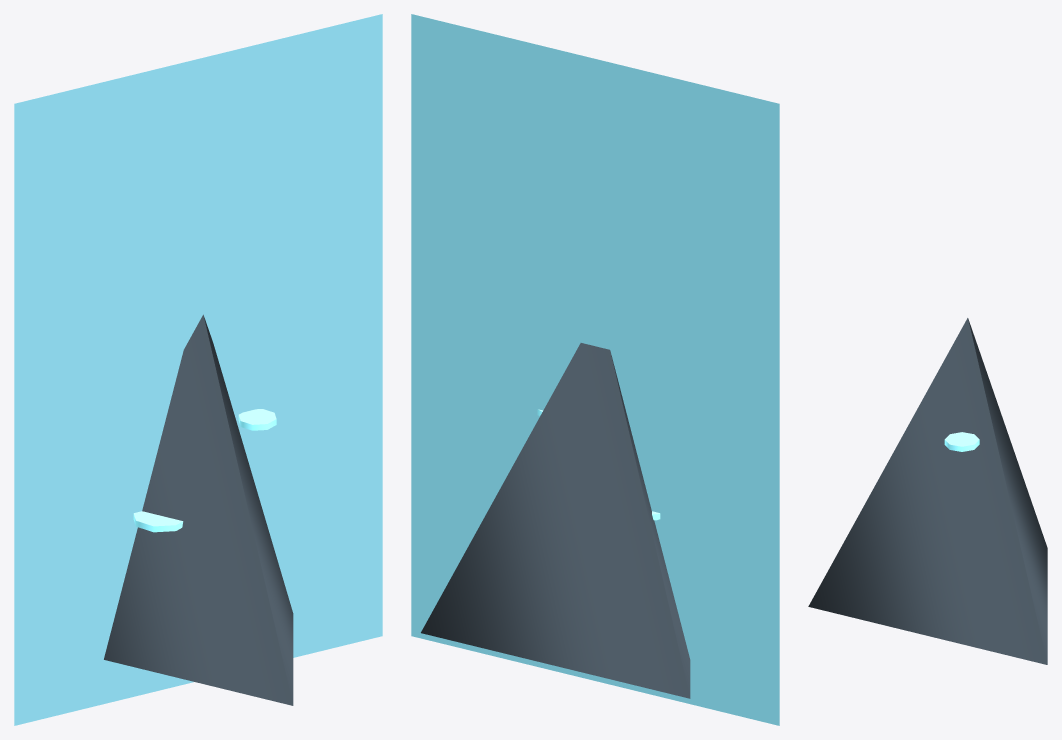
File: window-view-cave-lit.gltf
The picture shows the model from 3 angles, left to right: view 1: azimuth 30°, elevation 25°; view 2: azimuth 150°, elevation 25°; view 3: azimuth 270°, elevation 25°; orthographic projection. The views are drawn at different scales.
Parts seen in each view (by area): view 1: Backdrop, Mouth, GlowA, GlowB; view 2: Backdrop, Mouth; view 3: Mouth, GlowB.
Boxes of the visible parts, x1,y1,x2,y2 form: Backdrop: (14,14,382,725); Mouth: (104,314,293,705); GlowA: (133,511,183,532); GlowB: (238,409,276,430); Backdrop: (411,14,779,725); Mouth: (421,343,690,698); Mouth: (808,318,1047,664); GlowB: (944,432,979,451).
Size of the model in its own units: 1.3 by 2.1 by 0.825.
